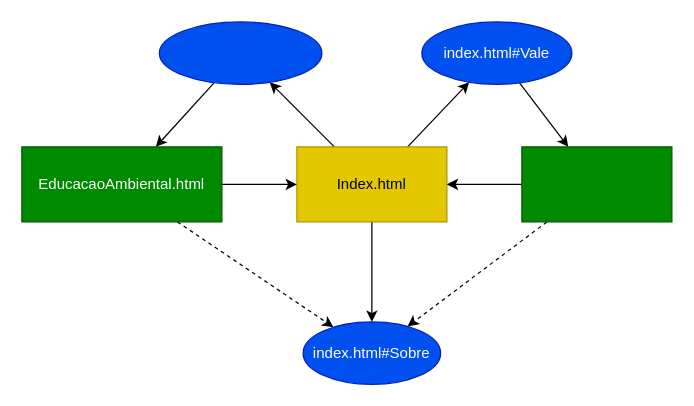
The diagram is 694 pixels wide and 406 high, and some of its shapes have lost their labels. The centre of each missing label's shape, as x and y in pixels:
index.html#Educacao: pixel 240 52
ValeDoParaiba.html: pixel 596 184
